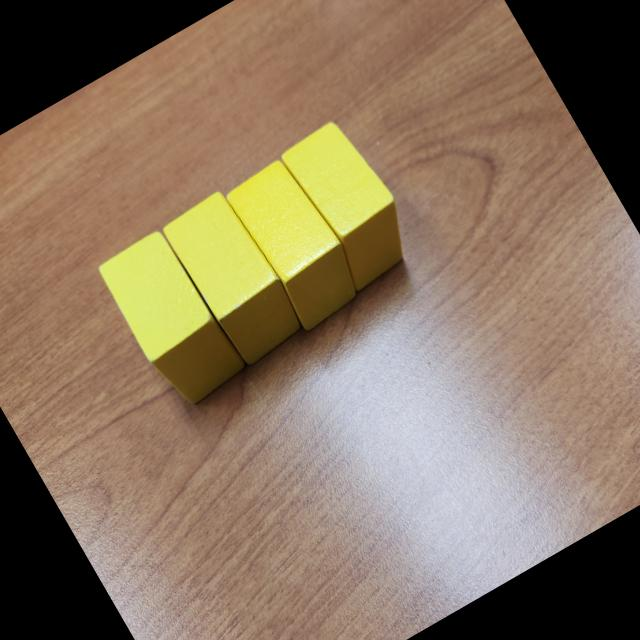yellow: (94, 224, 252, 414), (158, 182, 312, 370), (276, 113, 428, 294), (222, 153, 372, 336)
